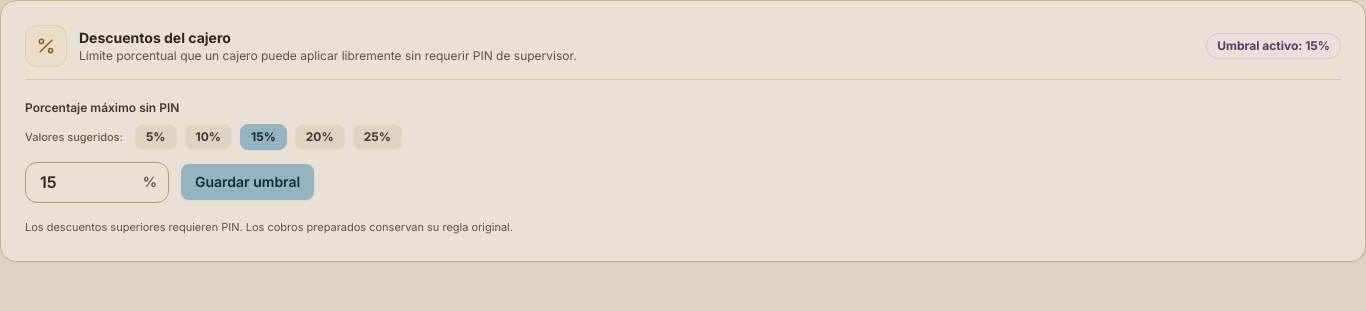
Test case: carga porcentaje, admite coma decimal y muestra éxito sólo después del guardado
Type "10,25" into the field named "Porcentaje máximo sin PIN" at point(97, 182), box 25,162 -> 169,203
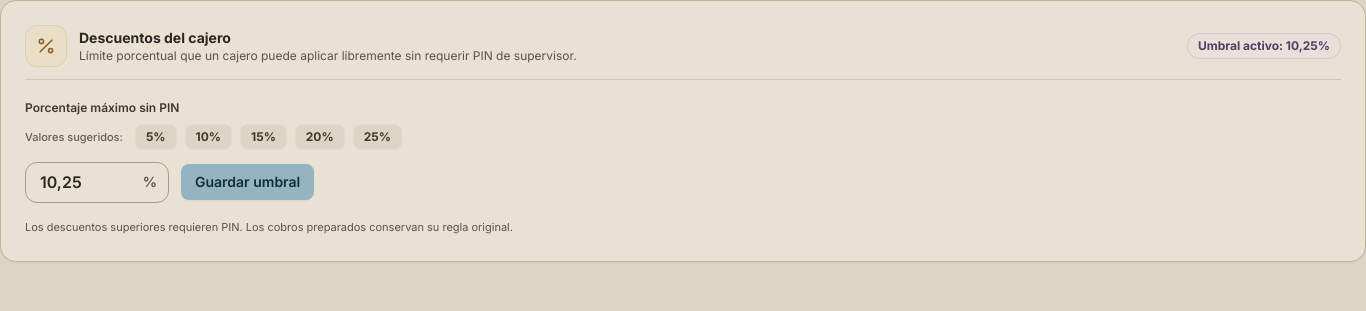
Click the button "Guardar umbral" at point(248, 182), box 181,164 -> 314,200
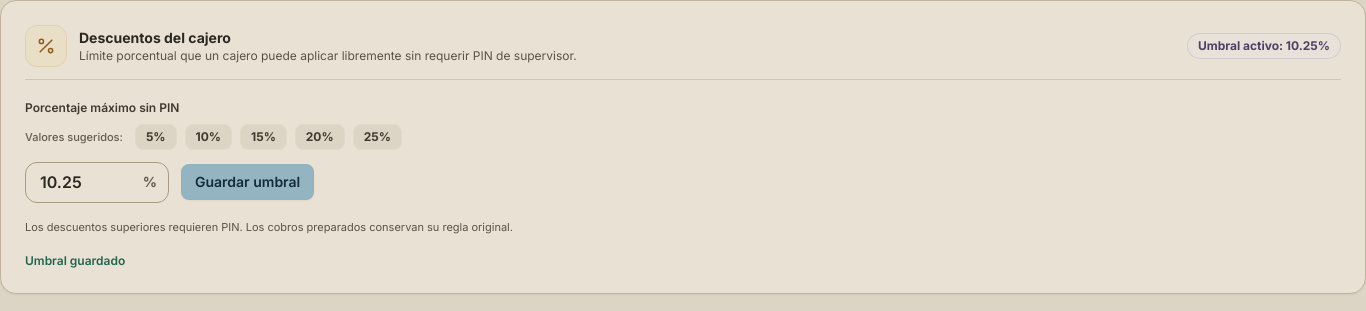
Result: the text "Umbral guardado" is shown at 25,253 -> 125,268
